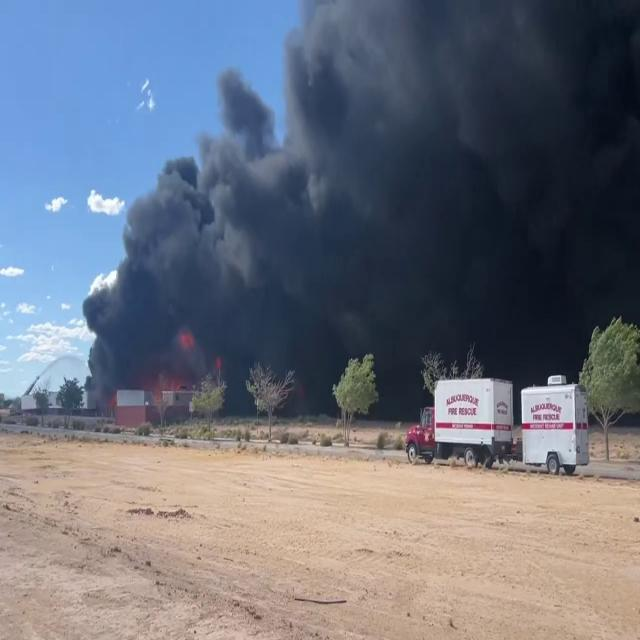Smoke: (86, 0, 640, 398)
